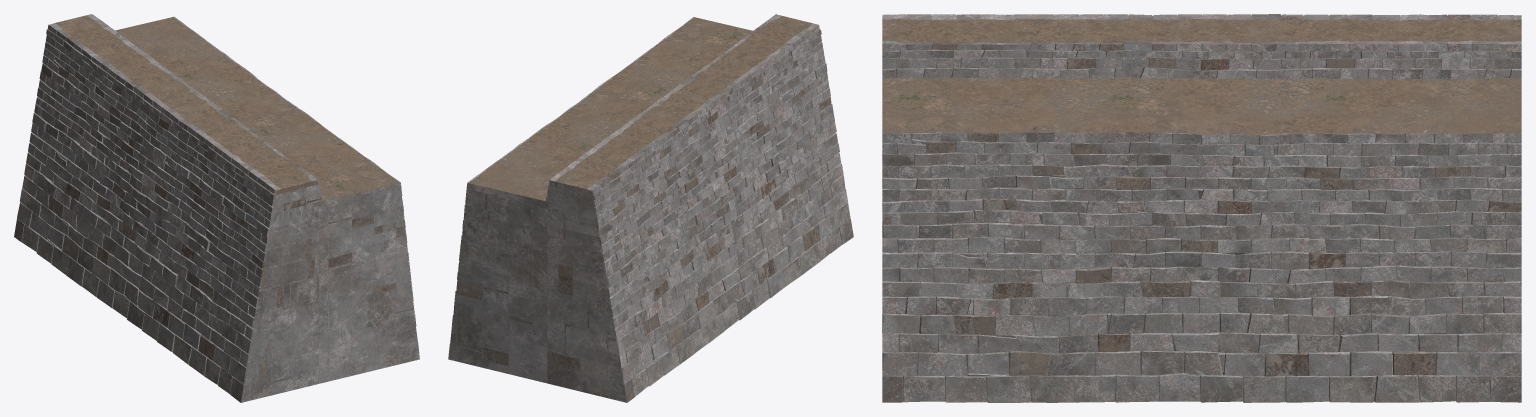
The model's file is SM_Outer_Castle01a.fbx.
3 renders of one model, left to right at view 1: azimuth 30°, elevation 25°; view 2: azimuth 150°, elevation 25°; view 3: azimuth 270°, elevation 25°, orthographic. The views are drawn at different scales.
Parts seen in each view (by area): view 1: SM_Outer_Castle01a; view 2: SM_Outer_Castle01a; view 3: SM_Outer_Castle01a.
Part boxes in pixels (x1,y1,x2,y2): SM_Outer_Castle01a: (14, 14, 419, 402); SM_Outer_Castle01a: (448, 14, 853, 402); SM_Outer_Castle01a: (882, 14, 1521, 402).
Size of the model in its own units: 367 by 800 by 399.
Materials: 2 (2 with a texture image).
